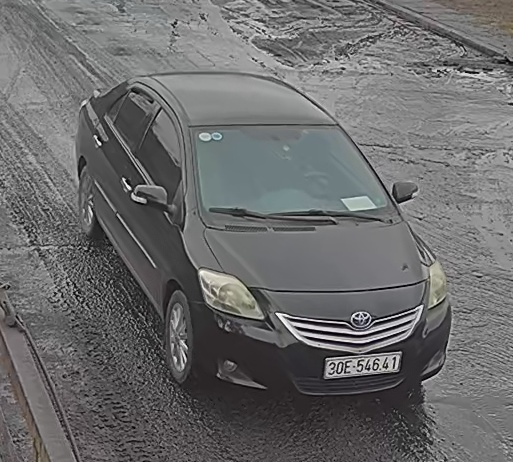vehicle plate: (320, 352, 404, 376)
